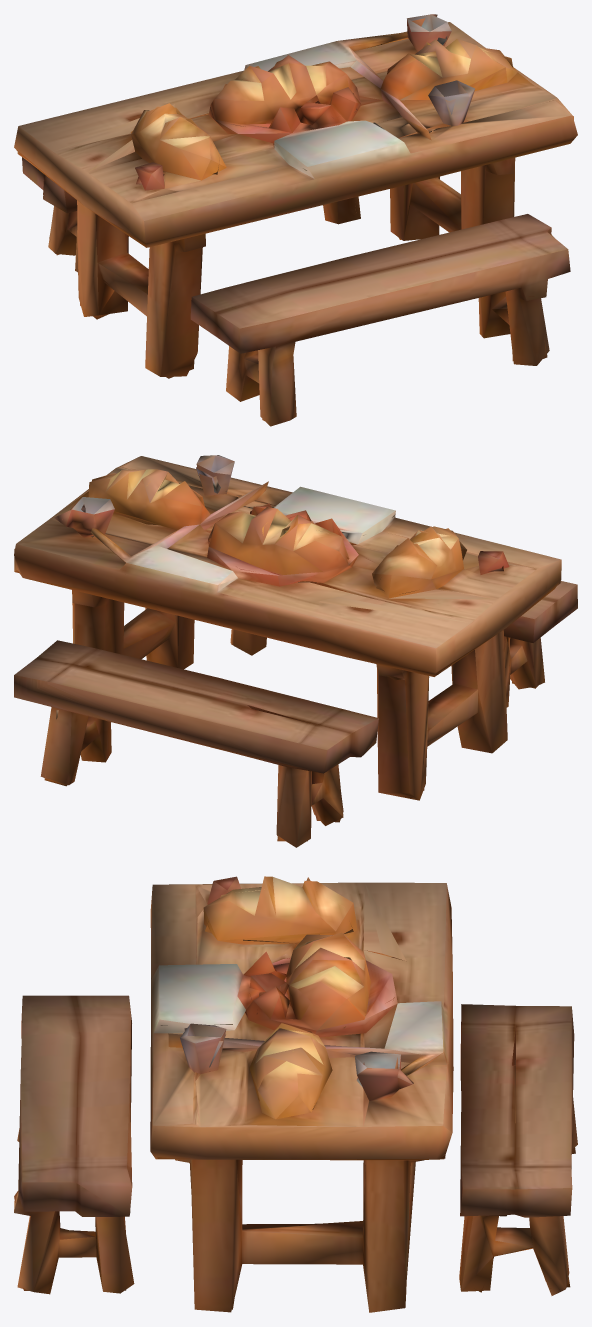
File: lg-feast-table.glb
The picture shows the model from 3 angles, top to bottom: view 1: azimuth 30°, elevation 25°; view 2: azimuth 150°, elevation 25°; view 3: azimuth 270°, elevation 25°; orthographic projection. The views are drawn at different scales.
Visible parts, largest first — view 1: geometry_0; view 2: geometry_0; view 3: geometry_0.
Boxes of the visible parts, left/top/right/bottom form: geometry_0: left=14, top=14, right=577, bottom=426; geometry_0: left=14, top=455, right=577, bottom=847; geometry_0: left=14, top=876, right=577, bottom=1312.
Size of the model in its own units: 1 by 0.5214 by 0.9658.
1 material, 1 textured.
